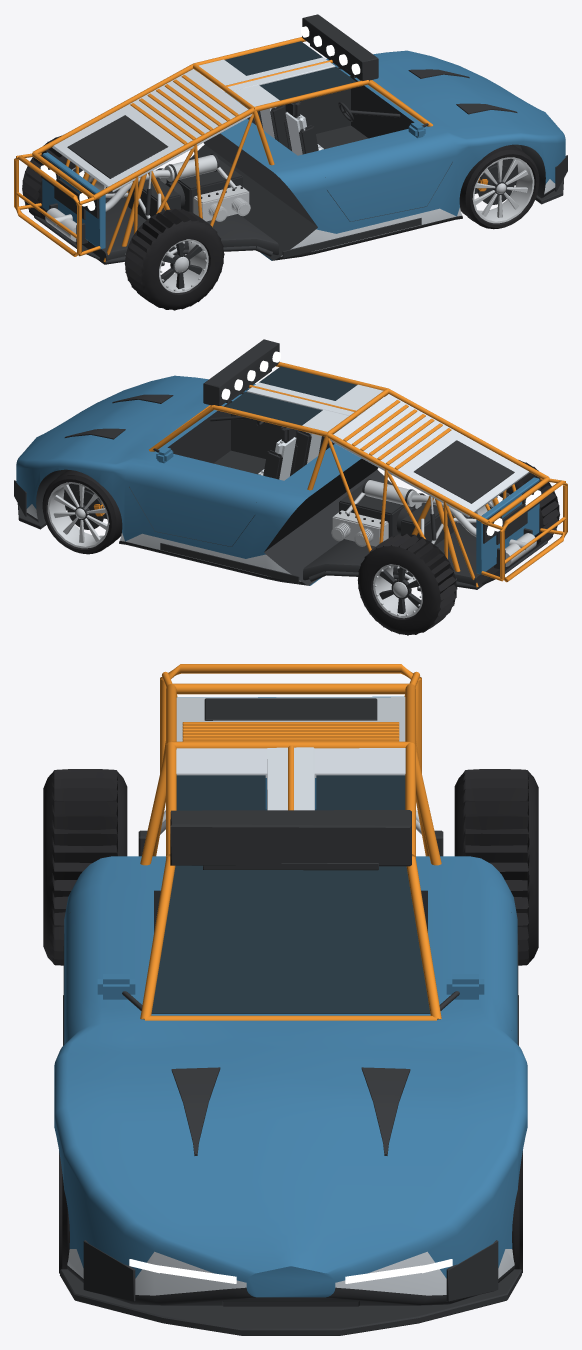
File: knifeedge_blueprint_LOD1.glb
3 renders of one model, top to bottom at view 1: azimuth 30°, elevation 25°; view 2: azimuth 150°, elevation 25°; view 3: azimuth 270°, elevation 25°, orthographic. The views are drawn at different scales.
Visible parts, largest first — view 1: Body_Shell.001, Detail_Iron, Body_Deck.001, Wheel_Truck_Tire_-1.001, Body_CageRear.001, Detail_Secondary, Body_Floor.001, Body_CageRoof.001, Detail_Stripe, Wheel_Coupe_Tire_-1.001, Body_CageBumper.001, Body_TailPlate.001 (+15 smaller); view 2: Body_Shell.001, Detail_Iron, Body_Deck.001, Wheel_Truck_Tire_+1.001, Body_CageRear.001, Detail_Secondary, Body_Floor.001, Body_CageRoof.001, Detail_Stripe, Wheel_Coupe_Tire_+1.001, Body_CageBumper.001, Body_TailPlate.001 (+15 smaller); view 3: Body_Shell.001, Glass_Windshield.001, Detail_Iron, Body_CageRoof.001, Wheel_Truck_Tire_+1.001, Wheel_Truck_Tire_-1.001, Body_Splitter.001, Detail_Secondary, Body_CageRear.001, Detail_Stripe, Body_CageBumper.001, Glass_Roof_-1.001 (+6 smaller).
Boxes of the visible parts, <box> form: Body_Shell.001: <box>189,50,565,260</box>; Detail_Iron: <box>34,14,567,259</box>; Body_Deck.001: <box>52,69,251,191</box>; Wheel_Truck_Tire_-1.001: <box>124,208,224,310</box>; Body_CageRear.001: <box>32,63,254,262</box>; Detail_Secondary: <box>198,57,335,155</box>; Body_Floor.001: <box>82,168,278,264</box>; Body_CageRoof.001: <box>193,37,432,165</box>; Detail_Stripe: <box>130,74,238,144</box>; Wheel_Coupe_Tire_-1.001: <box>459,144,539,229</box>; Body_CageBumper.001: <box>14,153,100,256</box>; Body_TailPlate.001: <box>42,152,105,249</box>; Body_Shell.001: <box>16,375,392,585</box>; Detail_Iron: <box>14,339,547,584</box>; Body_Deck.001: <box>330,394,529,517</box>; Wheel_Truck_Tire_+1.001: <box>357,533,457,635</box>; Body_CageRear.001: <box>326,389,549,587</box>; Detail_Secondary: <box>246,382,383,480</box>; Body_Floor.001: <box>303,493,499,589</box>; Body_CageRoof.001: <box>149,362,388,490</box>; Detail_Stripe: <box>343,400,451,469</box>; Wheel_Coupe_Tire_+1.001: <box>42,470,122,554</box>; Body_CageBumper.001: <box>481,478,567,582</box>; Body_TailPlate.001: <box>476,477,539,574</box>; Body_Shell.001: <box>54,856,527,1305</box>; Glass_Windshield.001: <box>151,865,430,1013</box>; Detail_Iron: <box>63,698,518,1306</box>; Body_CageRoof.001: <box>140,741,441,1020</box>; Wheel_Truck_Tire_+1.001: <box>454,769,538,965</box>; Wheel_Truck_Tire_-1.001: <box>43,769,127,965</box>; Body_Splitter.001: <box>60,1269,521,1335</box>; Detail_Secondary: <box>176,747,405,810</box>; Body_CageRear.001: <box>152,683,429,856</box>; Detail_Stripe: <box>182,722,399,741</box>; Body_CageBumper.001: <box>160,664,421,773</box>; Glass_Roof_-1.001: <box>176,775,265,810</box>.
Size of the model in its own units: 5.22 by 1.76 by 2.24.
